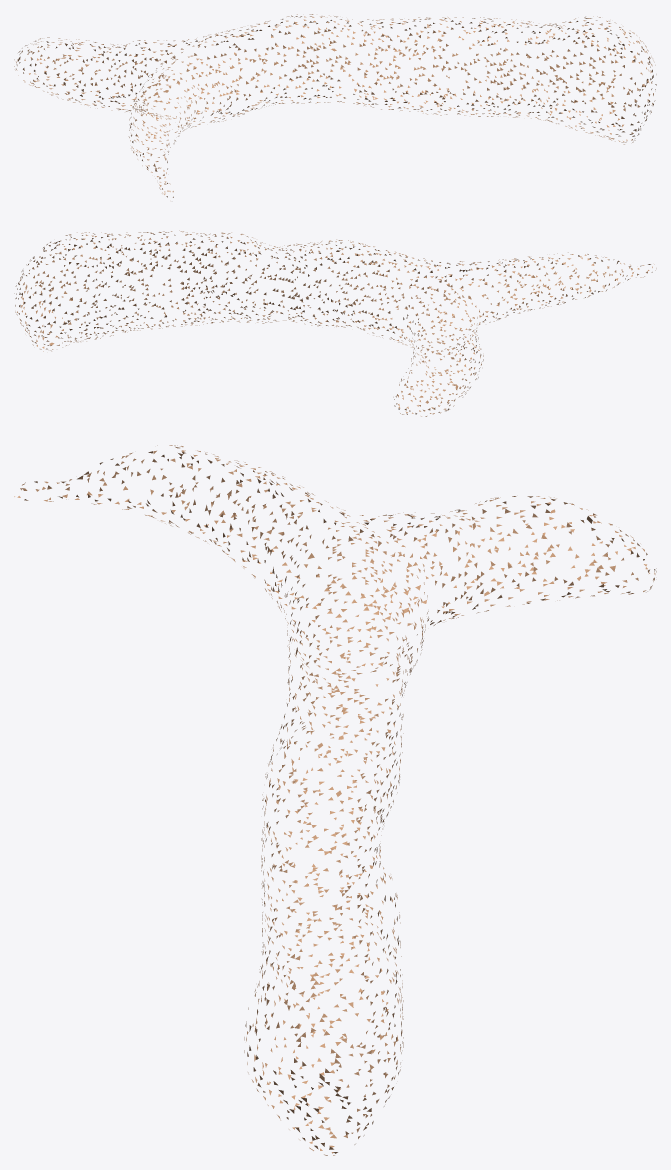
File: morph_005.glb
The picture shows the model from 3 angles, top to bottom: view 1: azimuth 30°, elevation 25°; view 2: azimuth 150°, elevation 25°; view 3: azimuth 270°, elevation 25°; orthographic projection. The views are drawn at different scales.
Size of the model in its own units: 133 by 43.34 by 81.05.
